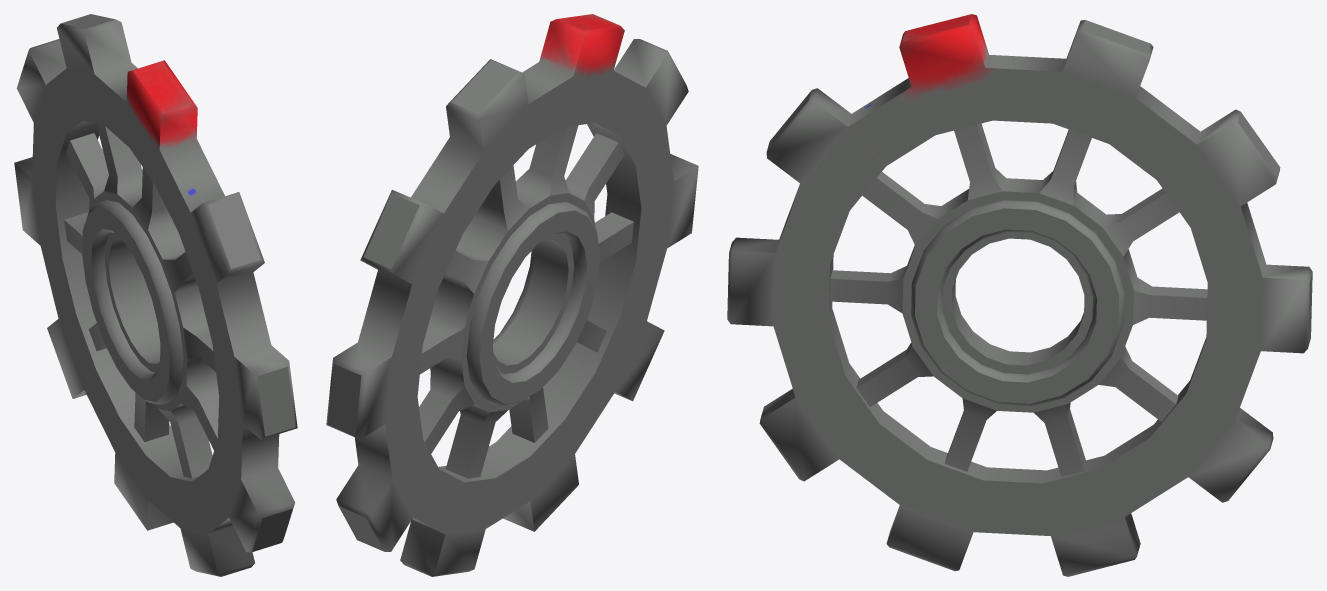
Rendered from Gear.fbx.
The picture shows the model from 3 angles, left to right: view 1: azimuth 30°, elevation 25°; view 2: azimuth 150°, elevation 25°; view 3: azimuth 270°, elevation 25°; orthographic projection.
Parts seen in each view (by area): view 1: node_id3; view 2: node_id3; view 3: node_id3.
Boxes of the visible parts, <box> form: node_id3: <box>14,14,297,576</box>; node_id3: <box>326,14,698,576</box>; node_id3: <box>727,14,1312,576</box>.
Size of the model in its own units: 0.1091 by 0.5041 by 0.5107.
1 material, 1 textured.
